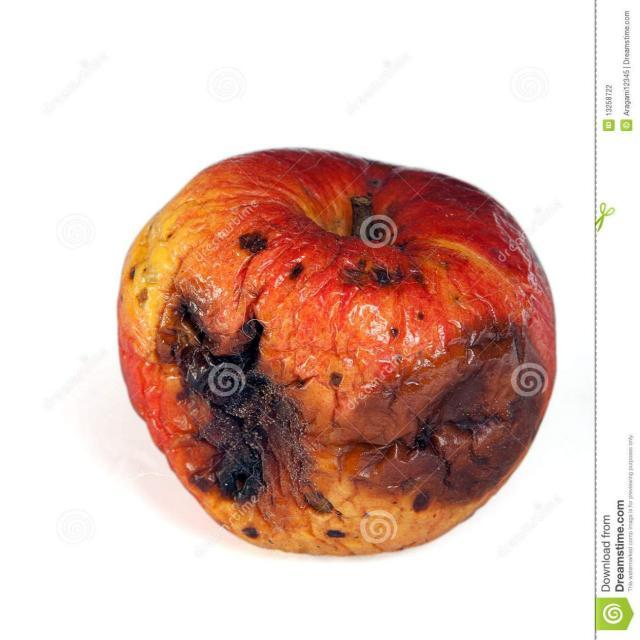Rotten: (122, 160, 568, 557)
